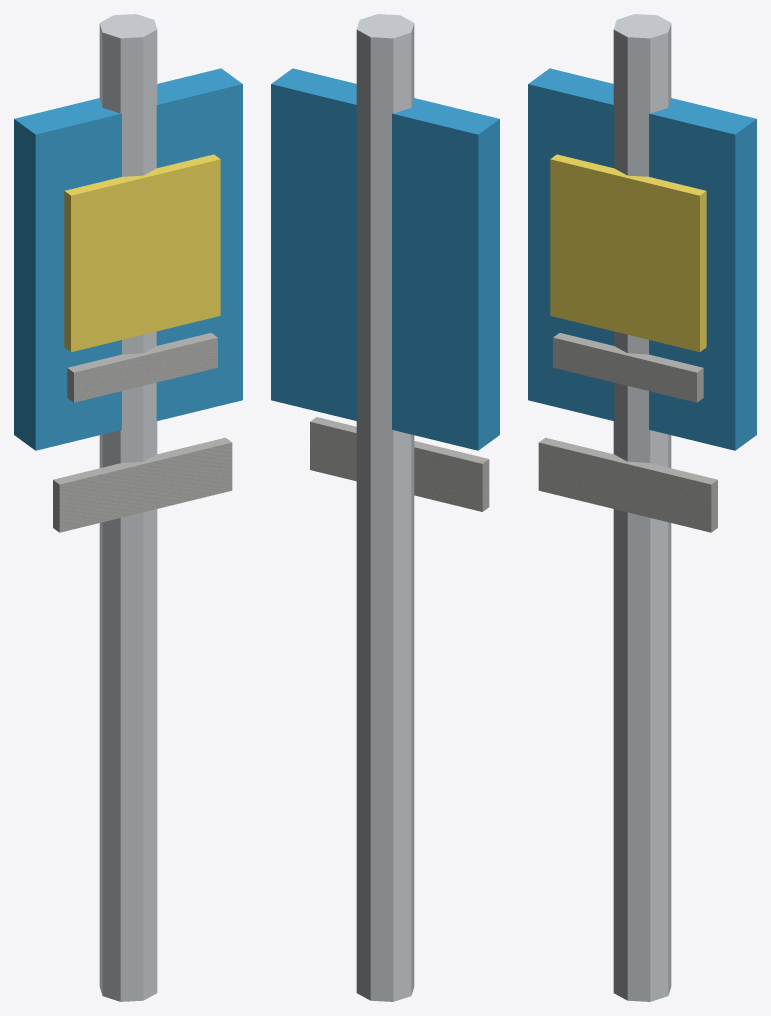
File: bus-station-and-city-transit-stand-number-totem-63b1b999__34207.glb
3 renders of one model, left to right at view 1: azimuth 30°, elevation 25°; view 2: azimuth 150°, elevation 25°; view 3: azimuth 330°, elevation 25°, orthographic.
Parts seen in each view (by area): view 1: stand-number-totem-azure, stand-number-totem-steel, stand-number-totem-canary, stand-number-totem-concrete; view 2: stand-number-totem-azure, stand-number-totem-steel, stand-number-totem-concrete; view 3: stand-number-totem-azure, stand-number-totem-steel, stand-number-totem-canary, stand-number-totem-concrete.
Part boxes in pixels (left/top/right/bottom): stand-number-totem-azure: left=14, top=68, right=242, bottom=450; stand-number-totem-steel: left=99, top=14, right=157, bottom=1001; stand-number-totem-canary: left=64, top=154, right=220, bottom=352; stand-number-totem-concrete: left=53, top=333, right=232, bottom=532; stand-number-totem-azure: left=271, top=68, right=499, bottom=450; stand-number-totem-steel: left=356, top=14, right=414, bottom=1001; stand-number-totem-concrete: left=310, top=417, right=489, bottom=511; stand-number-totem-azure: left=528, top=68, right=756, bottom=450; stand-number-totem-steel: left=613, top=14, right=671, bottom=1001; stand-number-totem-canary: left=550, top=154, right=706, bottom=352; stand-number-totem-concrete: left=538, top=333, right=717, bottom=532.
Size of the model in its own units: 0.72 by 3.2 by 0.195.
4 materials, 1 textured.
